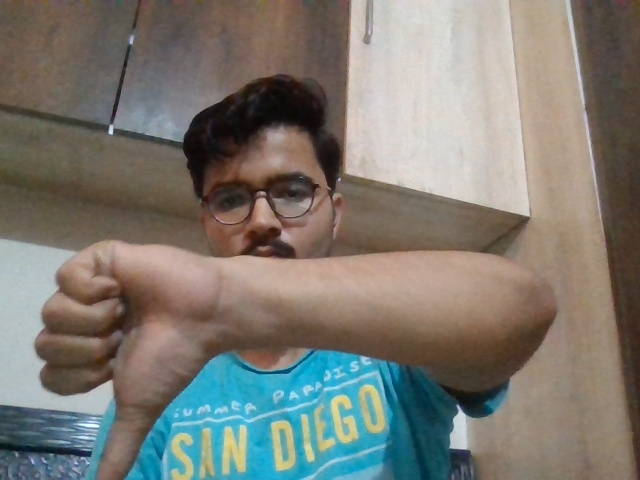no: (31, 234, 224, 480)
